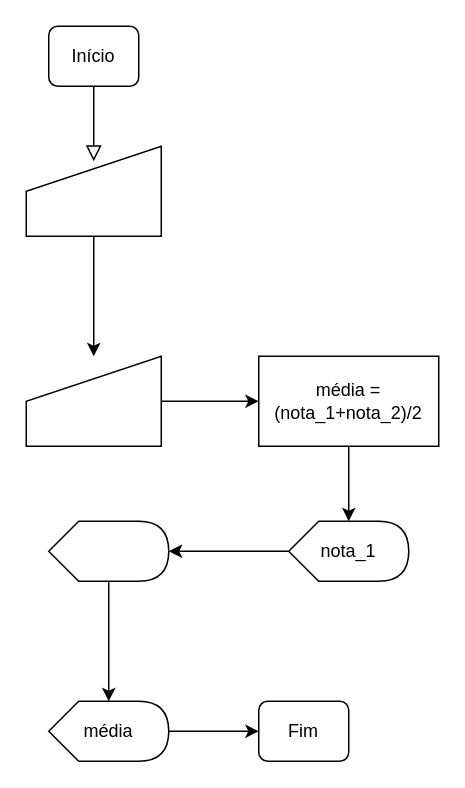
This 465x788 diagram has some shape labels left out. The box of each missing label's shape, as (x1, y1, x2, y2) in pixels:
Ler nota_1: (25, 145, 161, 236)
Ler nota_2: (25, 355, 161, 446)
nota_2: (47, 520, 169, 581)
